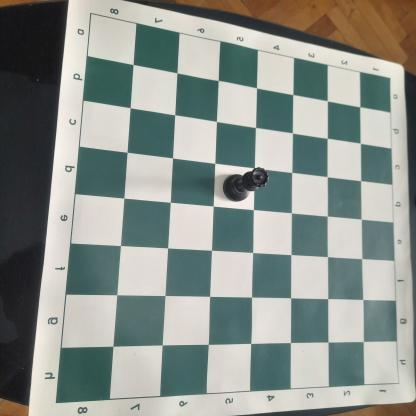black-queen: (222, 165, 270, 203)
